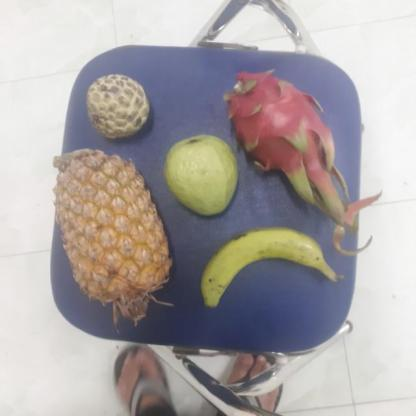annona: (86, 74, 152, 137)
banana: (200, 226, 340, 308)
guava: (165, 134, 241, 216)
pineapple: (58, 150, 171, 304)
pitaya: (227, 74, 337, 178)
